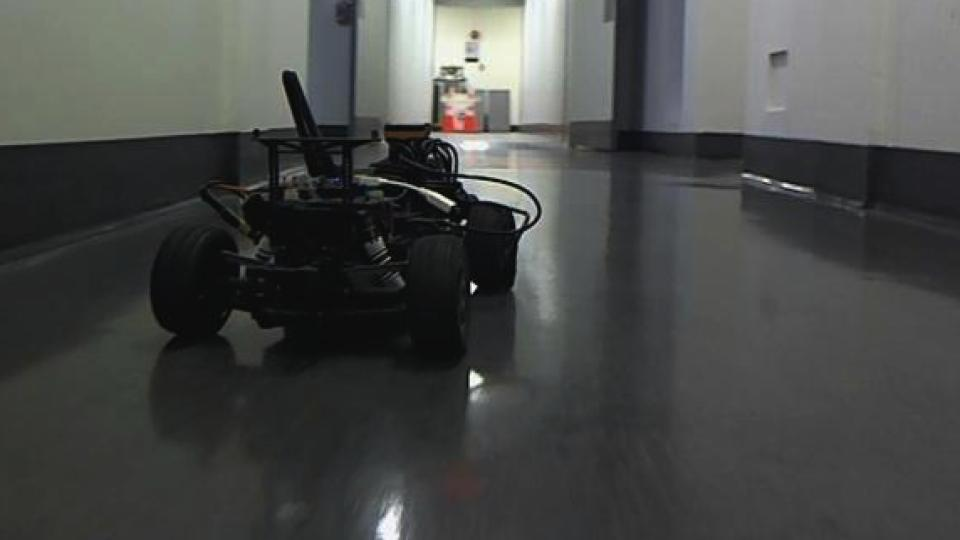car: (146, 68, 545, 360)
